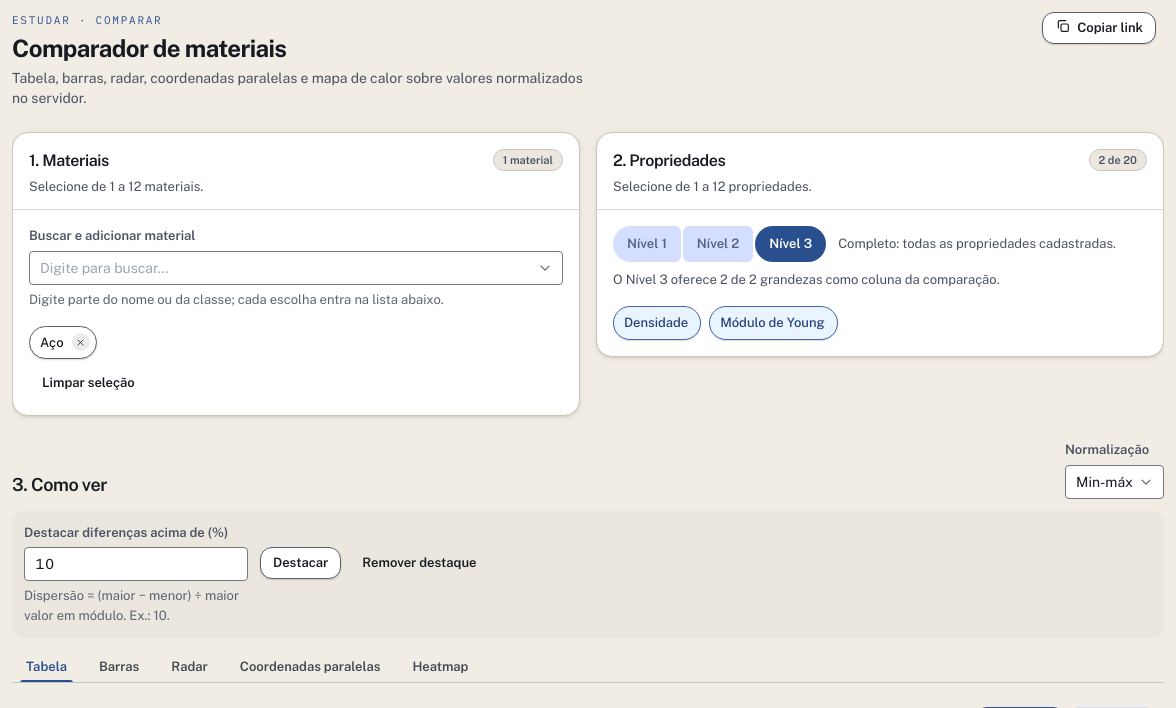
it: comparador: o link leva limiar e índices (D-163) › Copiar link entrega o endereço completo e diz que copiou
Click the button "Copiar link" at [1099, 28], box [1042,12,1156,44]
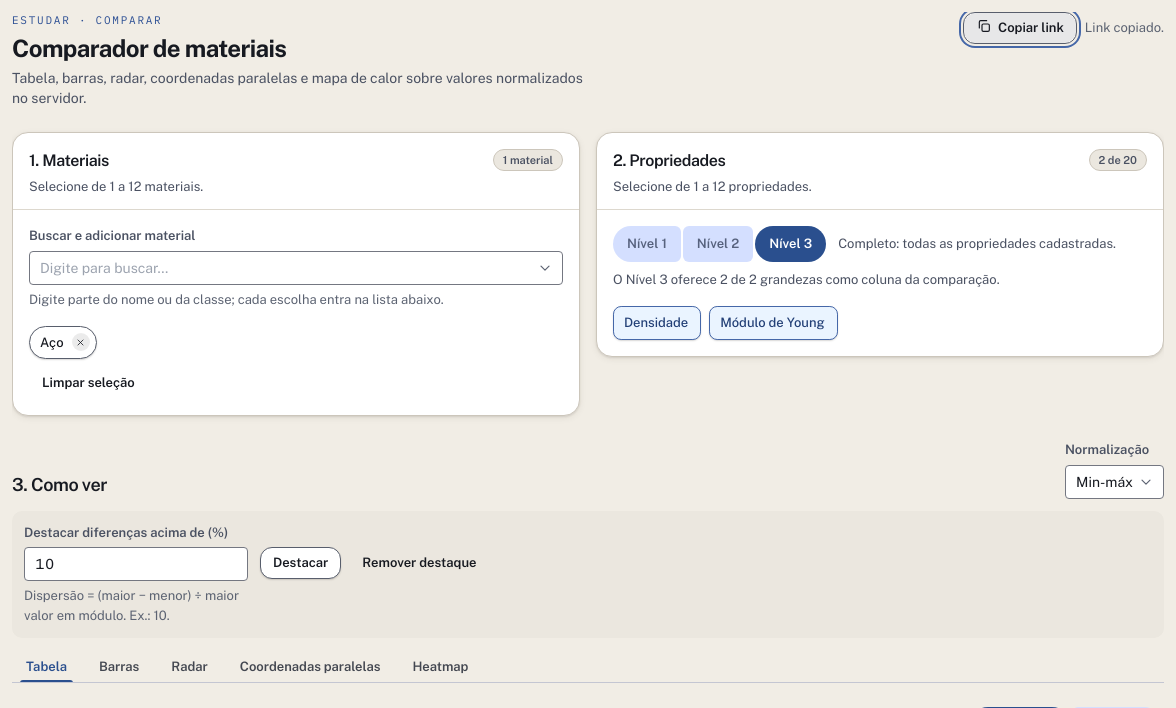
Expected: the text "Link copiado." is shown, [1085,18,1164,38]
